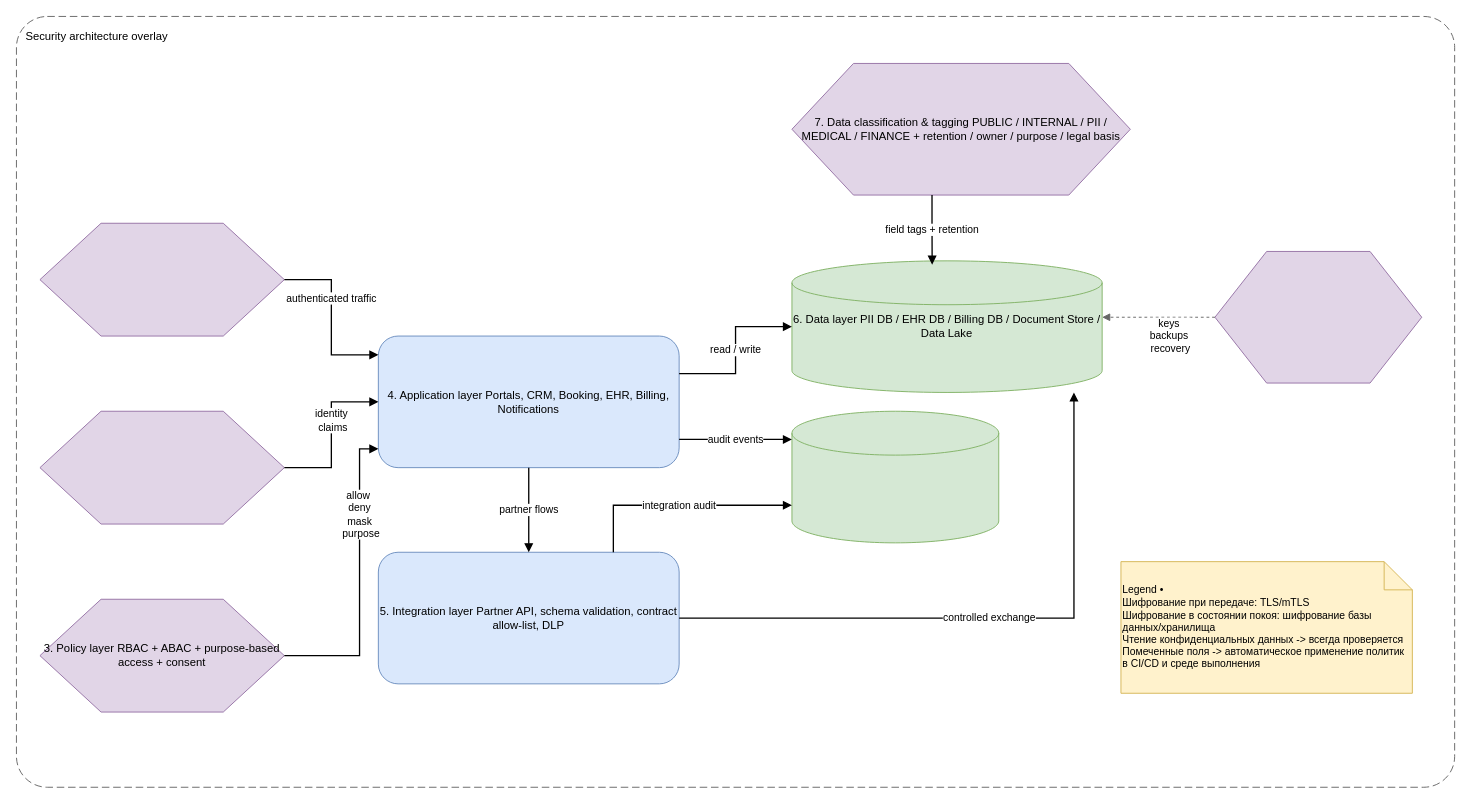
Image size: 1471x804. Some labels were removed from this diagram. The shapes that lost their labels are listed below. From the top down, each one's centre as x and y in pixels, then its label:
point (161, 279): 1. Access layer WAF / API Gateway / Rate limit / mTLS
point (1318, 317): 9. Ops & resilience KMS, secrets, backup, DR, patching, vuln scan, SAST/DAST
point (161, 467): 2. Identity layer AD/LDAP bridge, IAM, OIDC, MFA, PAM
point (895, 476): 8. Audit & detection SIEM, audit trail, UEBA, anomaly detection, alerting
